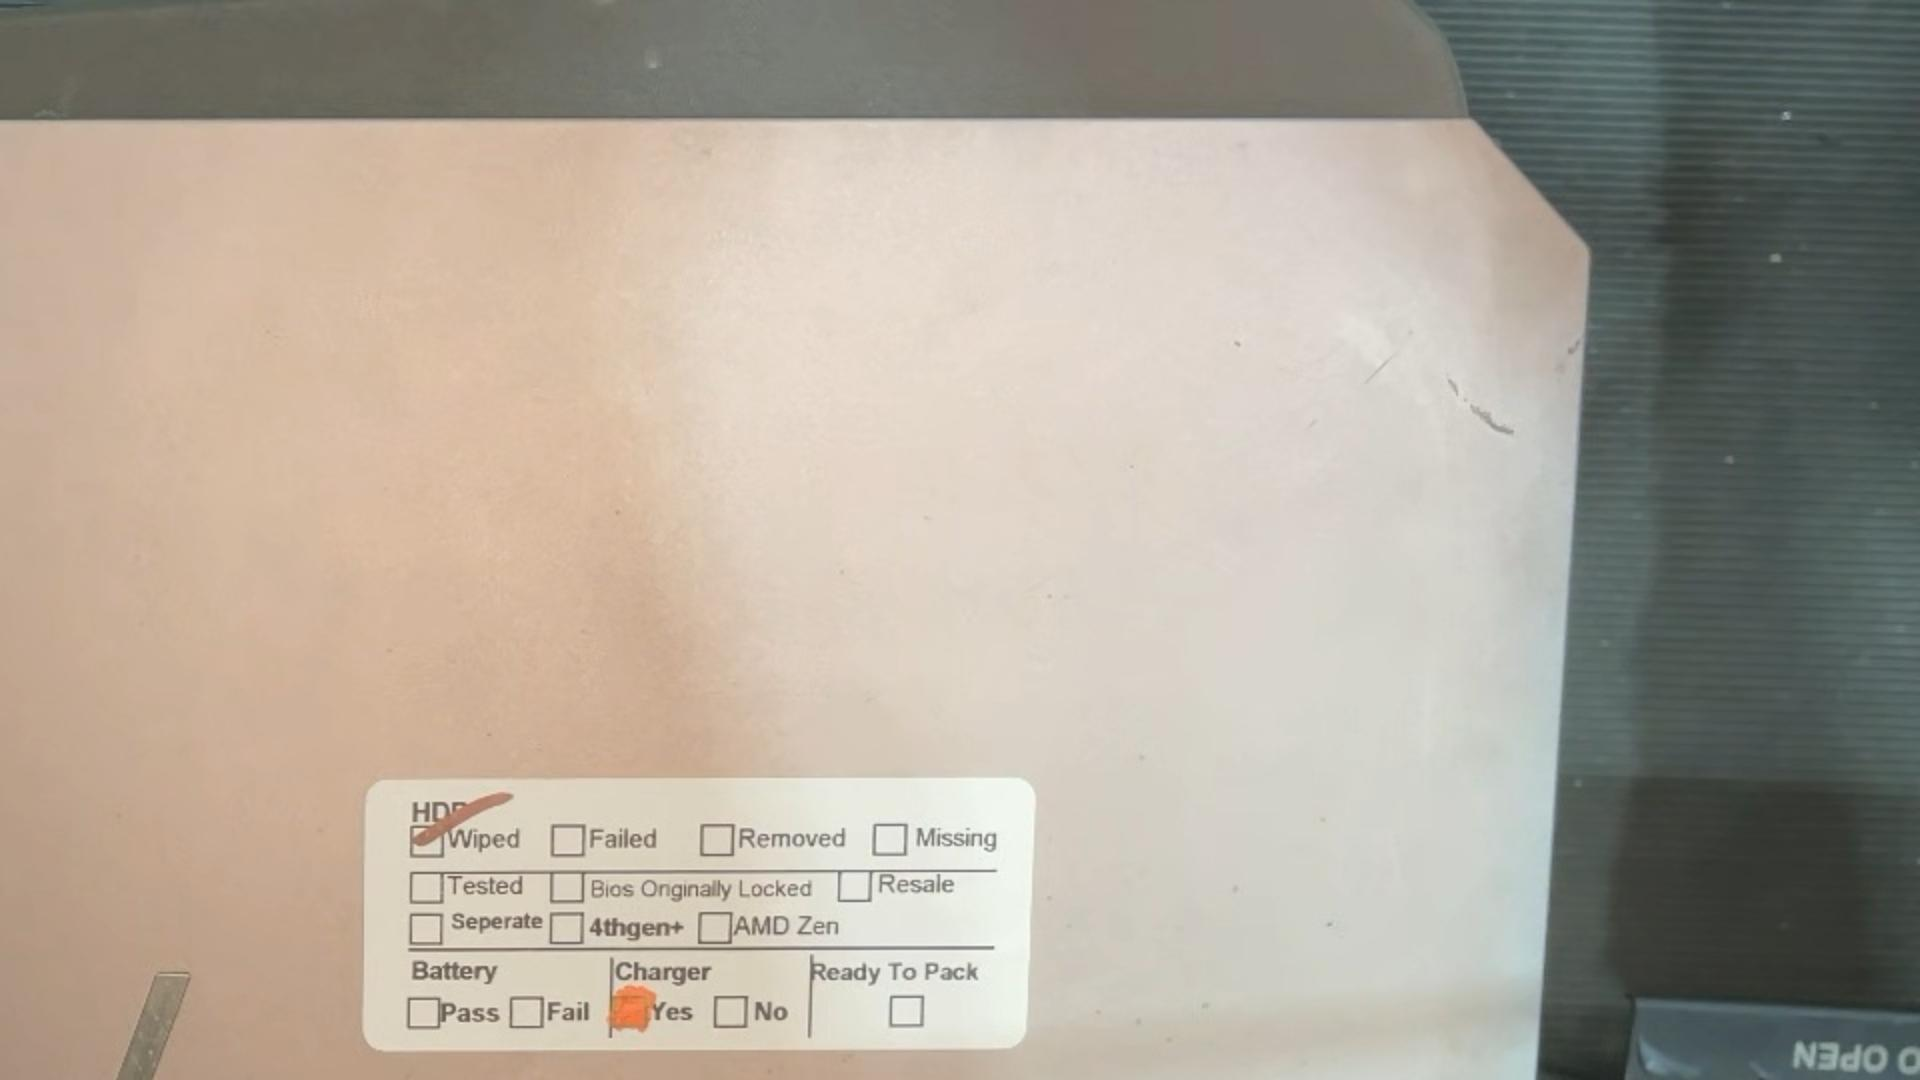scratches: (1444, 376, 1520, 438), (1360, 330, 1419, 388), (1564, 332, 1585, 357), (1230, 338, 1246, 349), (1305, 418, 1320, 429)
